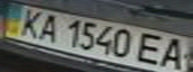0: (112, 26, 139, 60)
1: (57, 17, 84, 48)
4: (93, 24, 115, 56)
5: (75, 20, 100, 52)
A: (154, 36, 193, 71), (33, 11, 66, 43)
E: (133, 30, 172, 66)
K: (12, 7, 48, 38)
